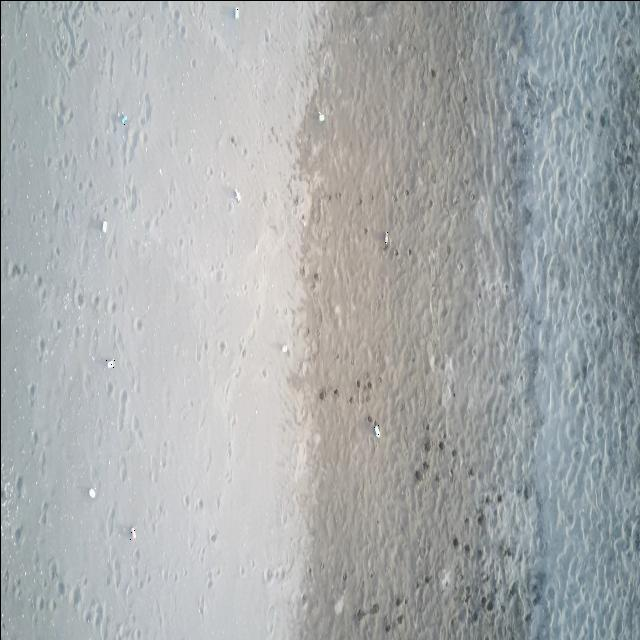Garbage: (233, 188, 240, 201), (373, 423, 379, 436), (129, 527, 135, 540), (105, 359, 114, 367), (101, 220, 107, 232), (233, 7, 239, 19), (120, 114, 127, 124), (88, 487, 95, 497), (318, 111, 324, 121), (281, 344, 287, 352), (384, 231, 387, 247)
